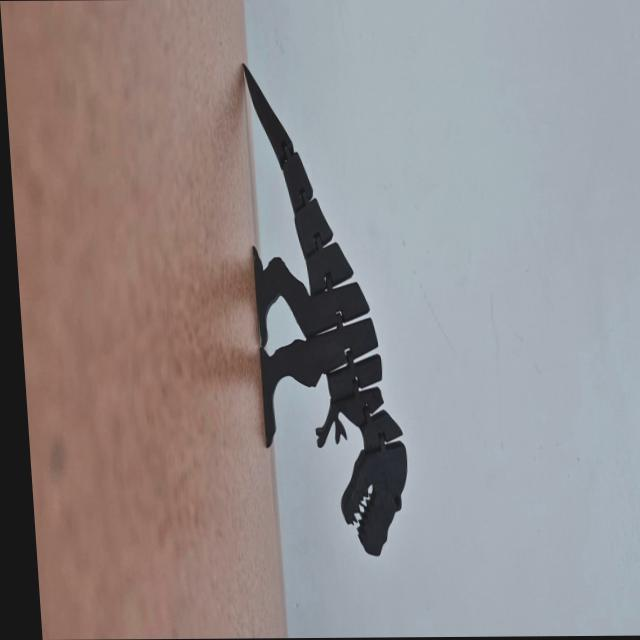dino: (239, 60, 414, 557)
